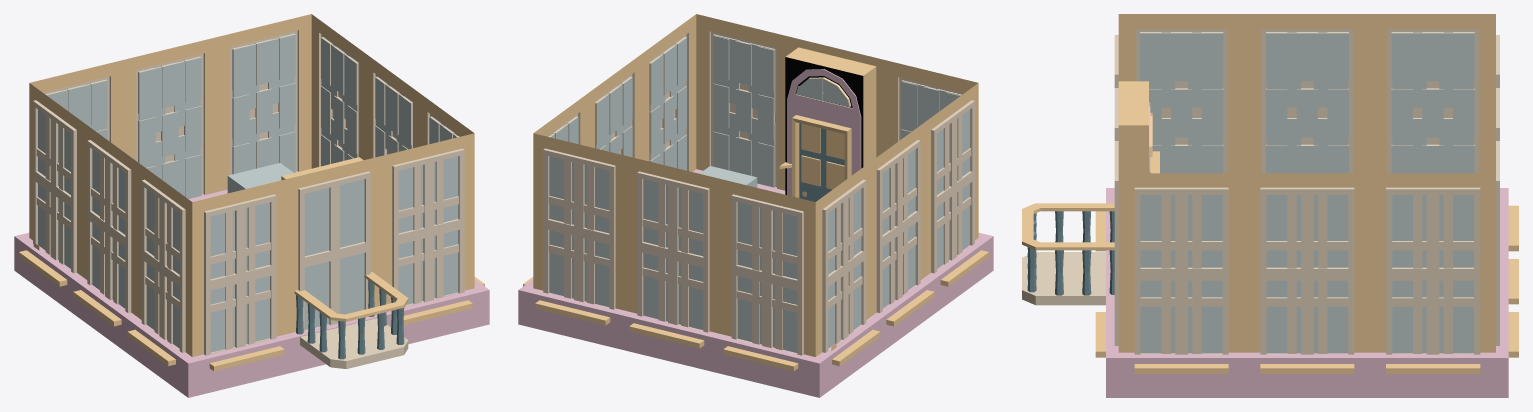
File: BaseFloorNB.fbx
The picture shows the model from 3 angles, left to right: view 1: azimuth 30°, elevation 25°; view 2: azimuth 150°, elevation 25°; view 3: azimuth 270°, elevation 25°; orthographic projection. The views are drawn at different scales.
Parts seen in each view (by area): view 1: Regular floor, Base, Balcony, Roof; view 2: Base, Regular floor, Roof, Balcony; view 3: Regular floor, Base, Balcony, Roof.
Boxes of the visible parts, bbox=[...] form: Regular floor: bbox=[14, 14, 489, 397]; Base: bbox=[29, 14, 474, 356]; Balcony: bbox=[33, 157, 408, 368]; Roof: bbox=[14, 163, 489, 380]; Base: bbox=[533, 14, 978, 356]; Regular floor: bbox=[518, 14, 993, 397]; Roof: bbox=[518, 166, 993, 380]; Balcony: bbox=[779, 47, 884, 350]; Regular floor: bbox=[1095, 14, 1518, 397]; Base: bbox=[1118, 14, 1495, 353]; Balcony: bbox=[1022, 81, 1148, 305]; Roof: bbox=[1106, 188, 1508, 377].
Bounding box in the file's own units: 1347 × 770 × 1581.
